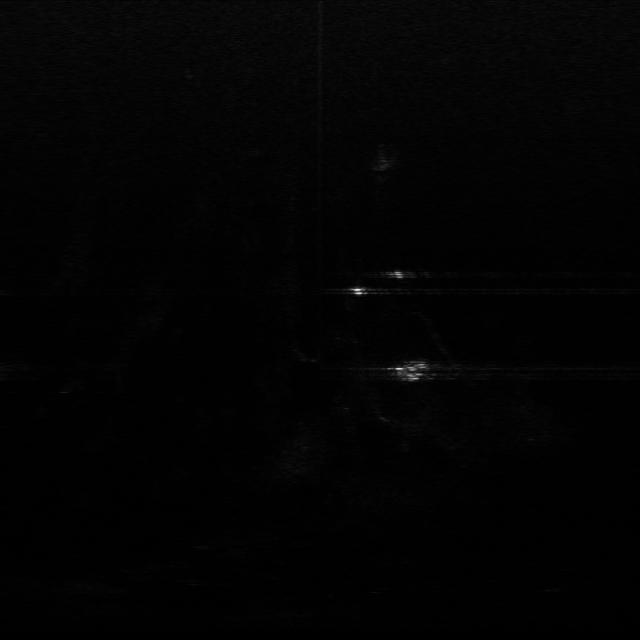rov: (392, 358, 431, 386)
